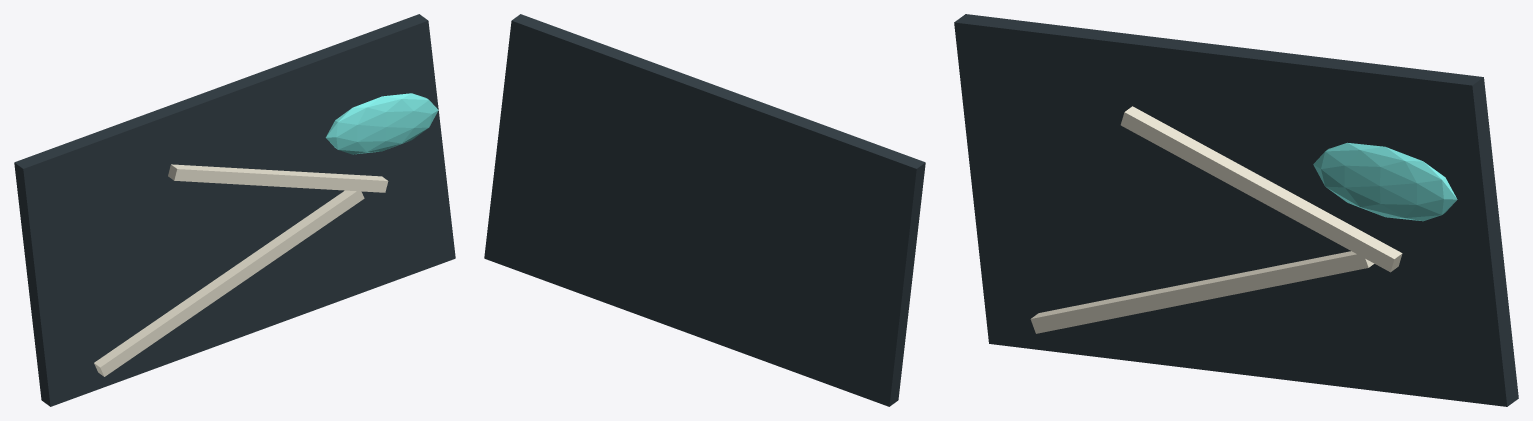
Rendered from 02_weathering_wear_overlay_2.glb.
3 views of the same model, side by side, from view 1: azimuth 30°, elevation 25°; view 2: azimuth 150°, elevation 25°; view 3: azimuth 330°, elevation 25° (orthographic). The views are drawn at different scales.
Parts seen in each view (by area): view 1: wear_plate, scratch_a, rust_or_moss_spot, scratch_b; view 2: wear_plate; view 3: wear_plate, rust_or_moss_spot, scratch_b, scratch_a.
Part boxes in pixels (bbox=[...]): wear_plate: bbox=[14, 14, 455, 406]; scratch_a: bbox=[94, 190, 364, 376]; rust_or_moss_spot: bbox=[325, 93, 438, 154]; scratch_b: bbox=[168, 164, 388, 192]; wear_plate: bbox=[484, 14, 925, 406]; wear_plate: bbox=[954, 14, 1518, 406]; rust_or_moss_spot: bbox=[1313, 142, 1457, 221]; scratch_b: bbox=[1120, 106, 1402, 272]; scratch_a: bbox=[1030, 251, 1374, 333].
Bounding box in the file's own units: 1.38 × 0.8957 × 0.134.
